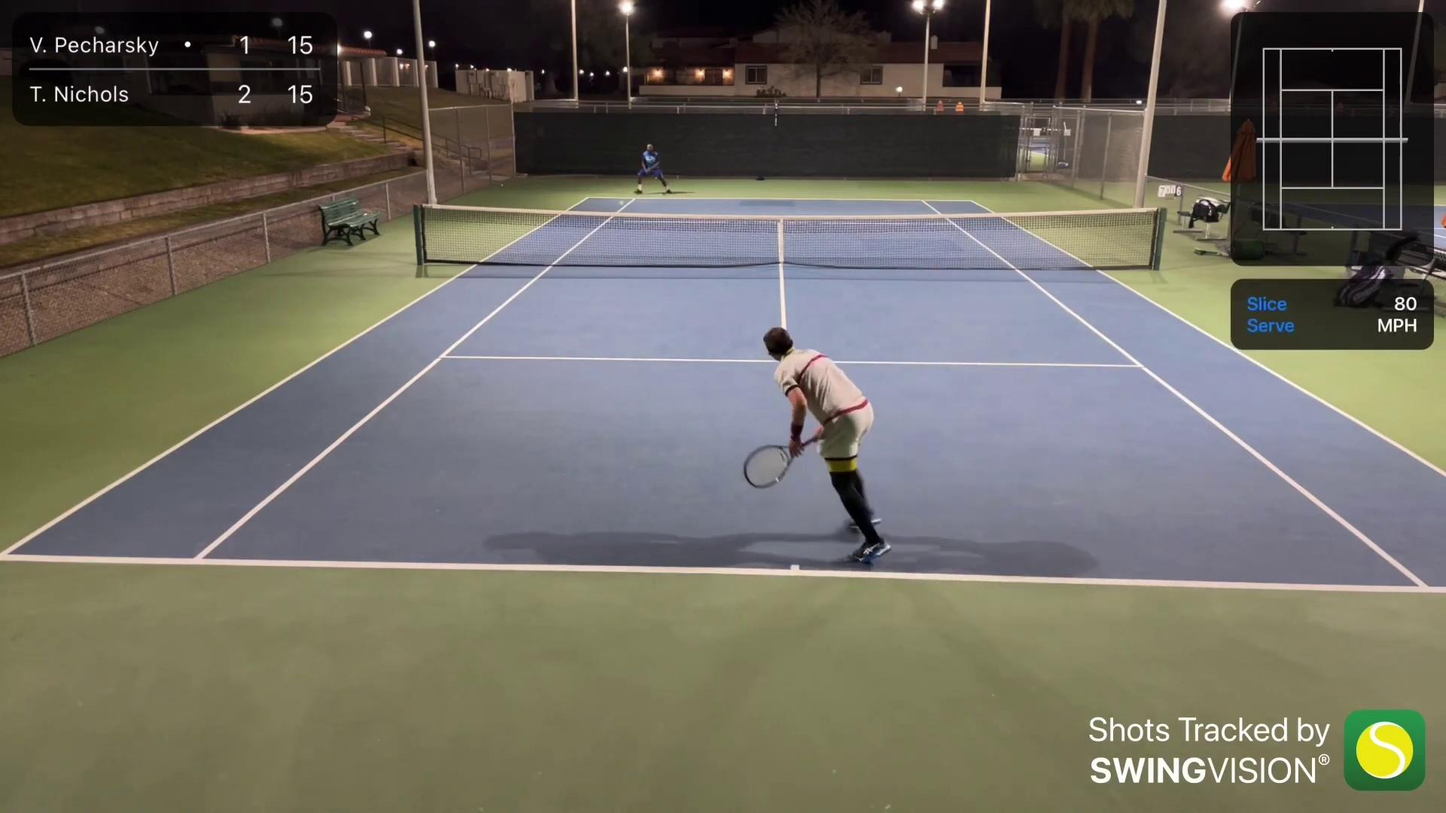ball: (619, 201, 624, 206)
